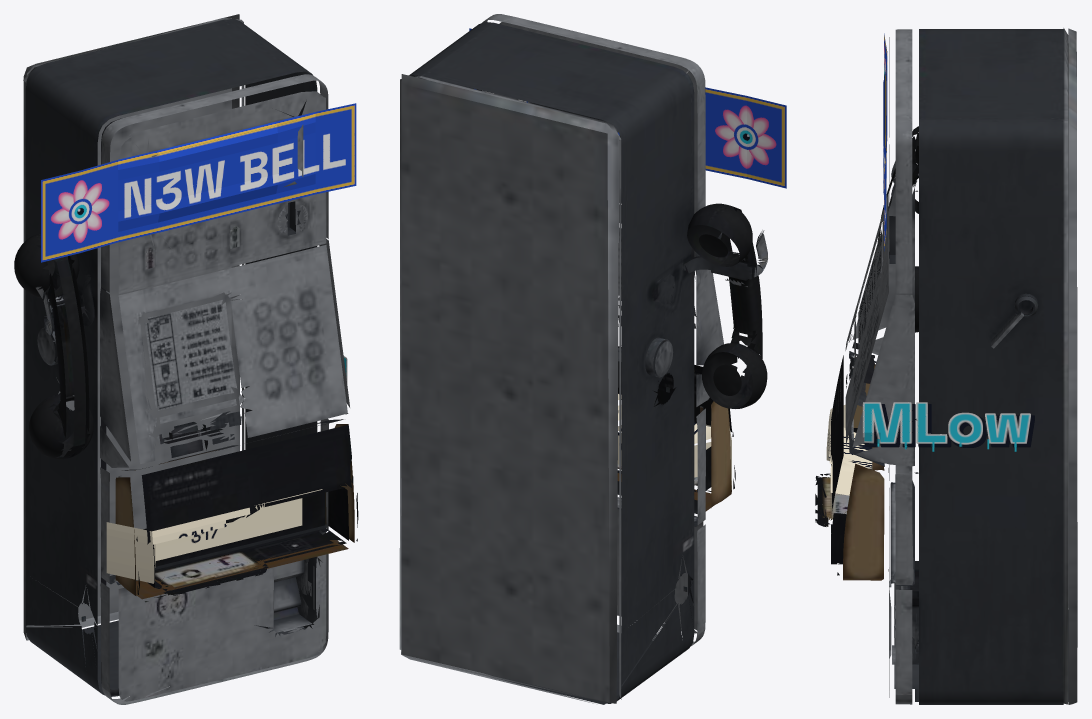
The model's file is isl_payphone.glb.
3 renders of one model, left to right at view 1: azimuth 30°, elevation 25°; view 2: azimuth 150°, elevation 25°; view 3: azimuth 270°, elevation 25°, orthographic.
Visible parts, largest first — view 1: korean_public_payphone_01; view 2: korean_public_payphone_01; view 3: korean_public_payphone_01.
Part boxes in pixels (x1,y1,x2,y2): korean_public_payphone_01: (14, 14, 358, 704); korean_public_payphone_01: (399, 14, 786, 704); korean_public_payphone_01: (815, 28, 1077, 704).
Bounding box in the file's own units: 0.42 × 0.7378 × 0.3011.
Materials: 4 (4 with a texture image).
